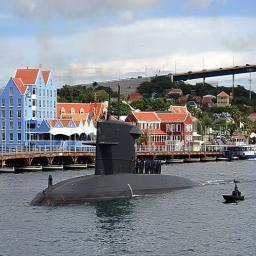submarine: (30, 82, 203, 207)
